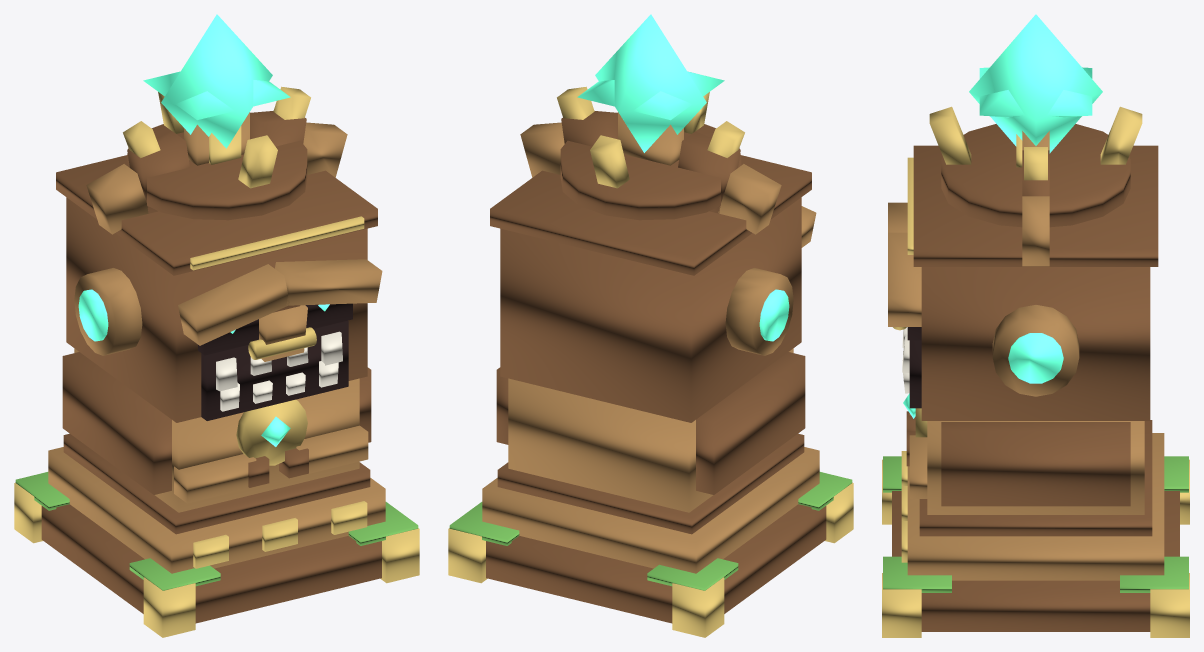
File: totem.glb
3 views of the same model, side by side, from view 1: azimuth 30°, elevation 25°; view 2: azimuth 150°, elevation 25°; view 3: azimuth 270°, elevation 25° (orthographic). The views are drawn at different scales.
Visible parts, largest first — view 1: Totem_Body, Totem_Crown_Gem; view 2: Totem_Body, Totem_Crown_Gem; view 3: Totem_Body, Totem_Crown_Gem.
Boxes of the visible parts, left/top/right/bottom form: Totem_Body: left=14, top=86, right=419, bottom=637; Totem_Crown_Gem: left=143, top=14, right=290, bottom=148; Totem_Body: left=448, top=86, right=853, bottom=637; Totem_Crown_Gem: left=577, top=14, right=724, bottom=152; Totem_Body: left=882, top=106, right=1189, bottom=637; Totem_Crown_Gem: left=969, top=14, right=1102, bottom=153.
Size of the model in its own units: 1.56 by 3.13 by 1.56.
